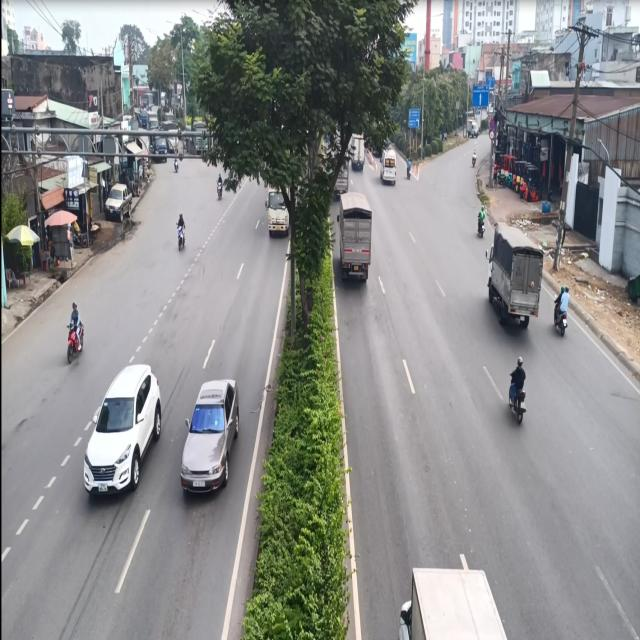car: (82, 362, 167, 508), (176, 378, 246, 508)
motor: (500, 354, 529, 431), (66, 296, 89, 356), (550, 282, 570, 346), (176, 210, 189, 254), (476, 198, 486, 245)
truck: (484, 225, 546, 338), (336, 194, 379, 292)
